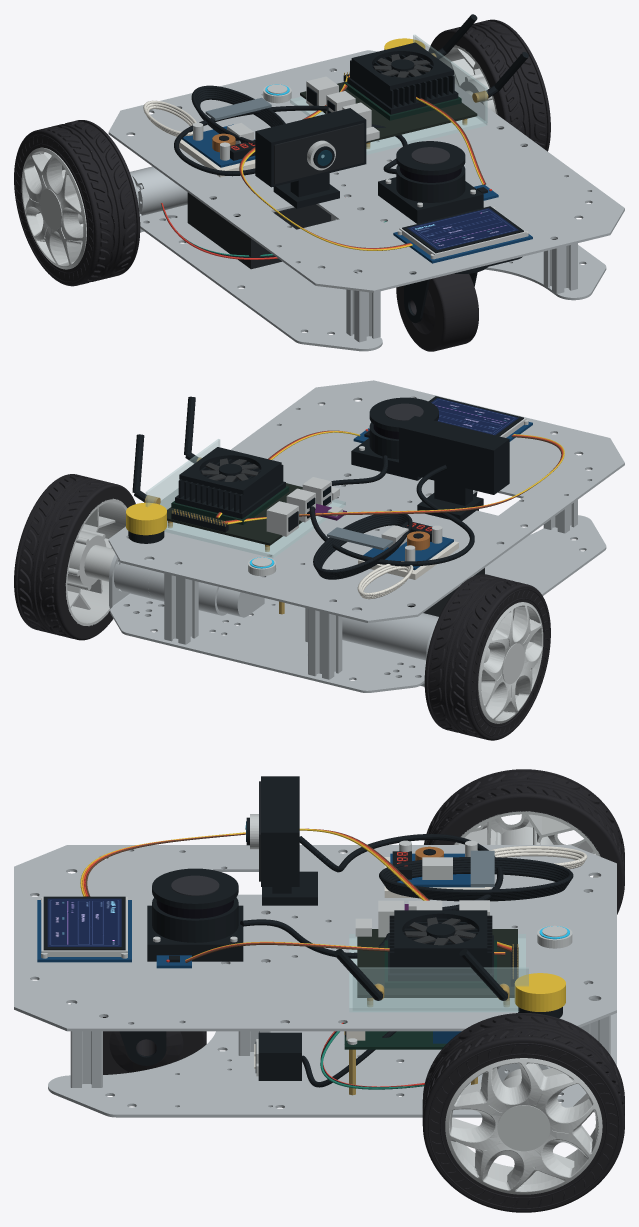
File: amr-robot.glb
The picture shows the model from 3 angles, top to bottom: view 1: azimuth 30°, elevation 25°; view 2: azimuth 150°, elevation 25°; view 3: azimuth 270°, elevation 25°; orthographic projection. The views are drawn at different scales.
Parts seen in each view (by area): view 1: Top plate — photo-estimated holes, Drive tyres, Lower chassis plate, Wheel hubs, Chassis hardware, Front caster wheel, Lower 24 V battery, Webcam face panel, Adesso 4K webcam housing, AMR Robot status display, LiDAR mounting base, Jetson carrier board (+23 smaller); view 2: Top plate — photo-estimated holes, Drive tyres, Lower chassis plate, Chassis hardware, Wheel hubs, Adesso 4K webcam housing, Jetson clear acrylic base, Jetson fan shroud, AMR Robot status display, Camera USB lead, Jetson carrier board, Yellow emergency stop (+21 smaller); view 3: Top plate — photo-estimated holes, Drive tyres, Lower chassis plate, Wheel hubs, Jetson acrylic antenna wall, Adesso 4K webcam housing, AMR Robot status display, Jetson carrier board, Chassis hardware, Jetson clear acrylic base, Front caster wheel, Jetson fan shroud (+32 smaller).
Boxes of the visible parts, x1,y1,x2,y2 form: Top plate — photo-estimated holes: [108, 50, 624, 292]; Drive tyres: [14, 19, 550, 286]; Lower chassis plate: [140, 204, 606, 351]; Wheel hubs: [21, 45, 498, 269]; Chassis hardware: [129, 70, 577, 342]; Front caster wheel: [396, 273, 478, 351]; Lower 24 V battery: [187, 192, 331, 269]; Webcam face panel: [274, 123, 364, 184]; Adesso 4K webcam housing: [255, 108, 366, 187]; AMR Robot status display: [407, 208, 518, 249]; LiDAR mounting base: [378, 177, 483, 223]; Jetson carrier board: [300, 82, 477, 142]; Top plate — photo-estimated holes: [108, 380, 624, 622]; Drive tyres: [14, 474, 550, 740]; Lower chassis plate: [110, 515, 606, 692]; Chassis hardware: [109, 454, 577, 686]; Wheel hubs: [65, 498, 543, 723]; Adesso 4K webcam housing: [399, 416, 509, 494]; Jetson clear acrylic base: [164, 499, 345, 557]; Jetson fan shroud: [179, 447, 281, 494]; AMR Robot status display: [431, 398, 518, 435]; Camera USB lead: [309, 465, 474, 566]; Jetson carrier board: [167, 483, 302, 545]; Yellow emergency stop: [126, 502, 166, 535]; Top plate — photo-estimated holes: [14, 845, 616, 1031]; Drive tyres: [422, 769, 624, 1212]; Lower chassis plate: [48, 963, 616, 1117]; Wheel hubs: [445, 811, 602, 1194]; Jetson acrylic antenna wall: [352, 967, 528, 1011]; Adesso 4K webcam housing: [261, 776, 299, 886]; AMR Robot status display: [47, 898, 121, 946]; Jetson carrier board: [357, 929, 517, 997]; Chassis hardware: [70, 891, 610, 1087]; Jetson clear acrylic base: [349, 934, 525, 1012]; Front caster wheel: [103, 1017, 206, 1074]; Jetson fan shroud: [394, 910, 487, 953].
Size of the model in its own units: 0.407 by 0.1636 by 0.38.
Materials: 38 (2 with a texture image).
